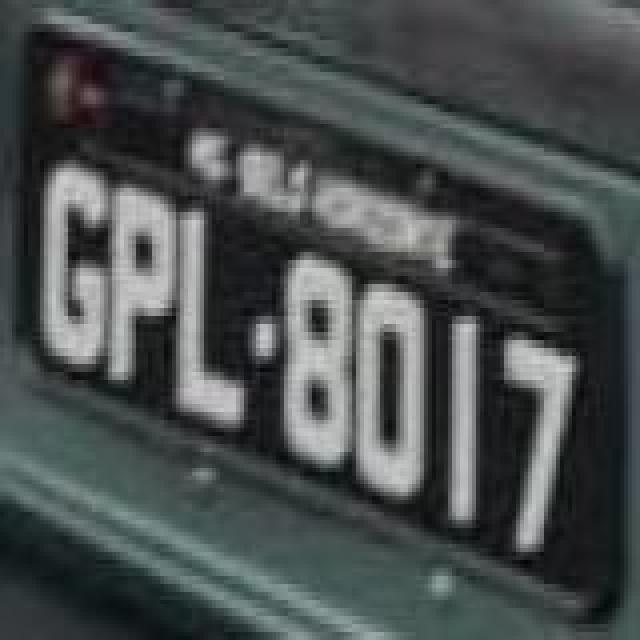1: (444, 310, 484, 538)
7: (498, 322, 582, 558)
8: (282, 246, 358, 474)
G: (34, 162, 110, 374)
L: (170, 202, 246, 438)
O: (352, 278, 432, 506)
P: (106, 178, 182, 390)
